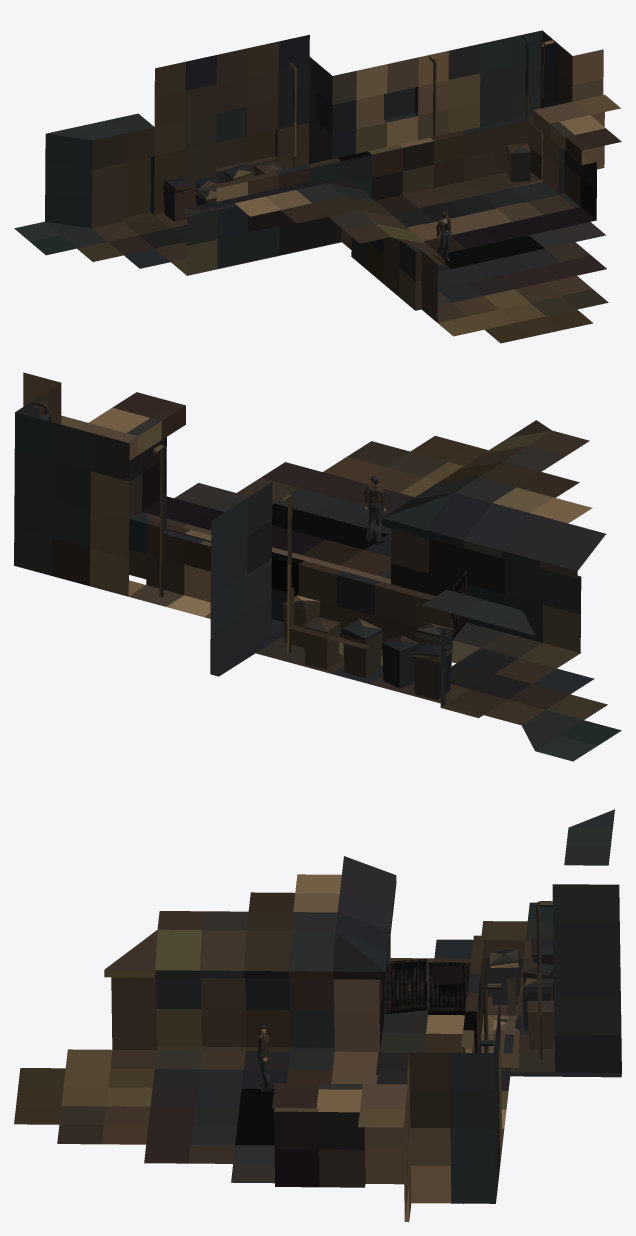
Rendered from silent_hill.obj.
3 views of the same model, one above another, from view 1: azimuth 30°, elevation 25°; view 2: azimuth 150°, elevation 25°; view 3: azimuth 270°, elevation 25° (orthographic). The views are drawn at different scales.
Parts seen in each view (by area): view 1: shot_2026-04-29_21-18-24-196.001; view 2: shot_2026-04-29_21-18-24-196.001; view 3: shot_2026-04-29_21-18-24-196.001.
Part boxes in pixels (x1,y1,x2,y2): shot_2026-04-29_21-18-24-196.001: [14, 30, 621, 343]; shot_2026-04-29_21-18-24-196.001: [14, 372, 621, 761]; shot_2026-04-29_21-18-24-196.001: [14, 809, 621, 1221].
Bounding box in the file's own units: 13.06 × 3.77 × 10.55.
1 material, 1 textured.
